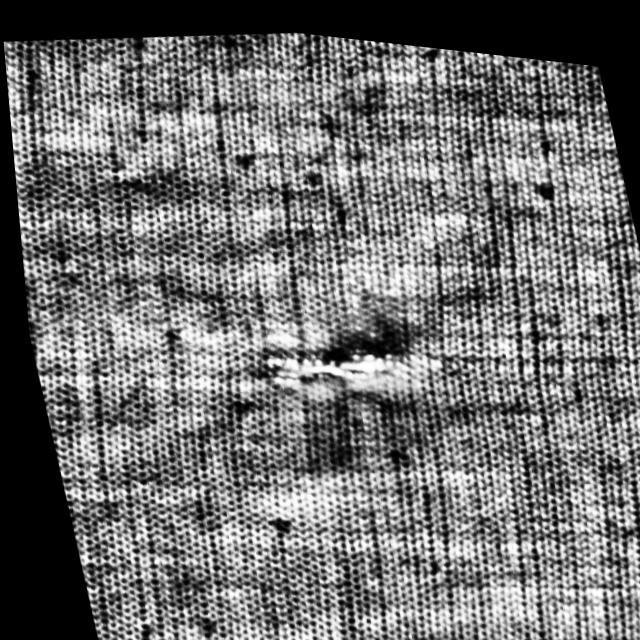Hole: (251, 319, 446, 399)
